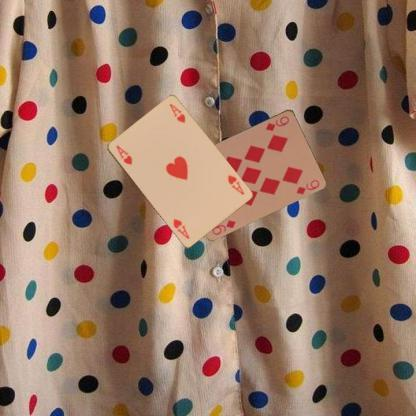9d: (263, 114, 291, 132), (210, 218, 237, 236)
Ah: (113, 143, 133, 166), (225, 173, 245, 196)
